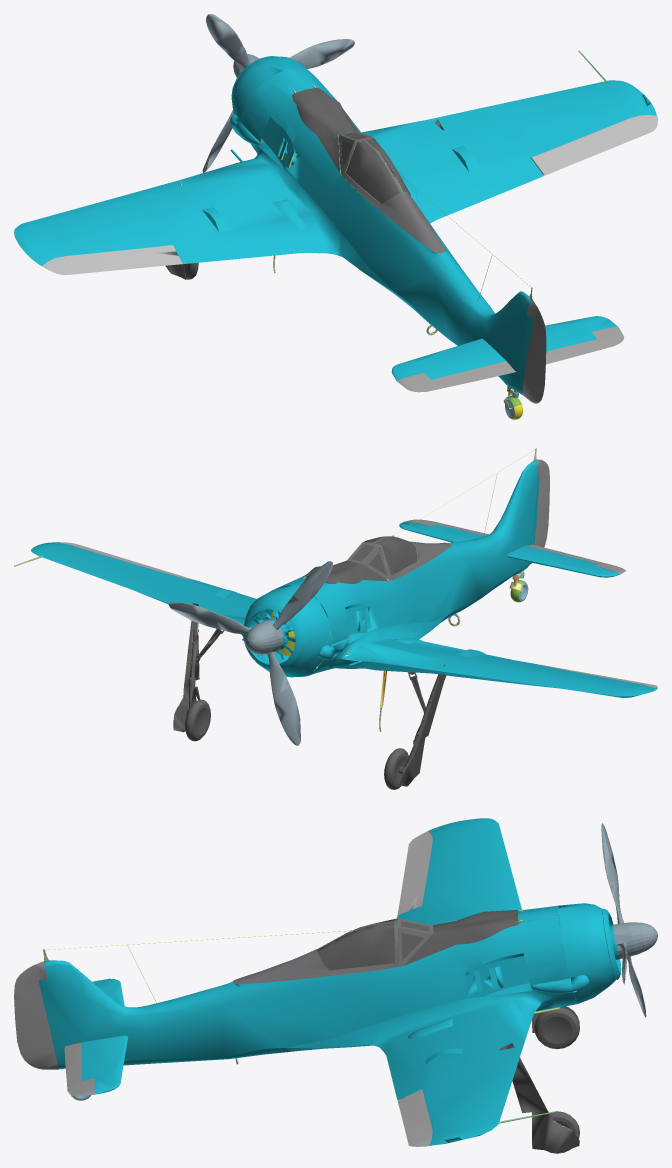
3 views of the same model, one above another, from view 1: azimuth 30°, elevation 25°; view 2: azimuth 150°, elevation 25°; view 3: azimuth 270°, elevation 25° (orthographic). The views are drawn at different scales.
Parts seen in each view (by area): view 1: Plane, Propeller, RightBreakable; view 2: Plane, Propeller; view 3: Plane, Propeller, RightBreakable.
Boxes of the visible parts, left/top/right/bottom form: Plane: left=14, top=50, right=656, bottom=419; Propeller: left=202, top=14, right=354, bottom=172; RightBreakable: left=531, top=115, right=657, bottom=175; Plane: left=14, top=448, right=657, bottom=789; Propeller: left=168, top=561, right=332, bottom=745; Plane: left=14, top=818, right=621, bottom=1153; Propeller: left=601, top=823, right=657, bottom=1017; RightBreakable: left=397, top=1089, right=432, bottom=1146.
Bounding box in the file's own units: 19928 × 7241 × 16982.
